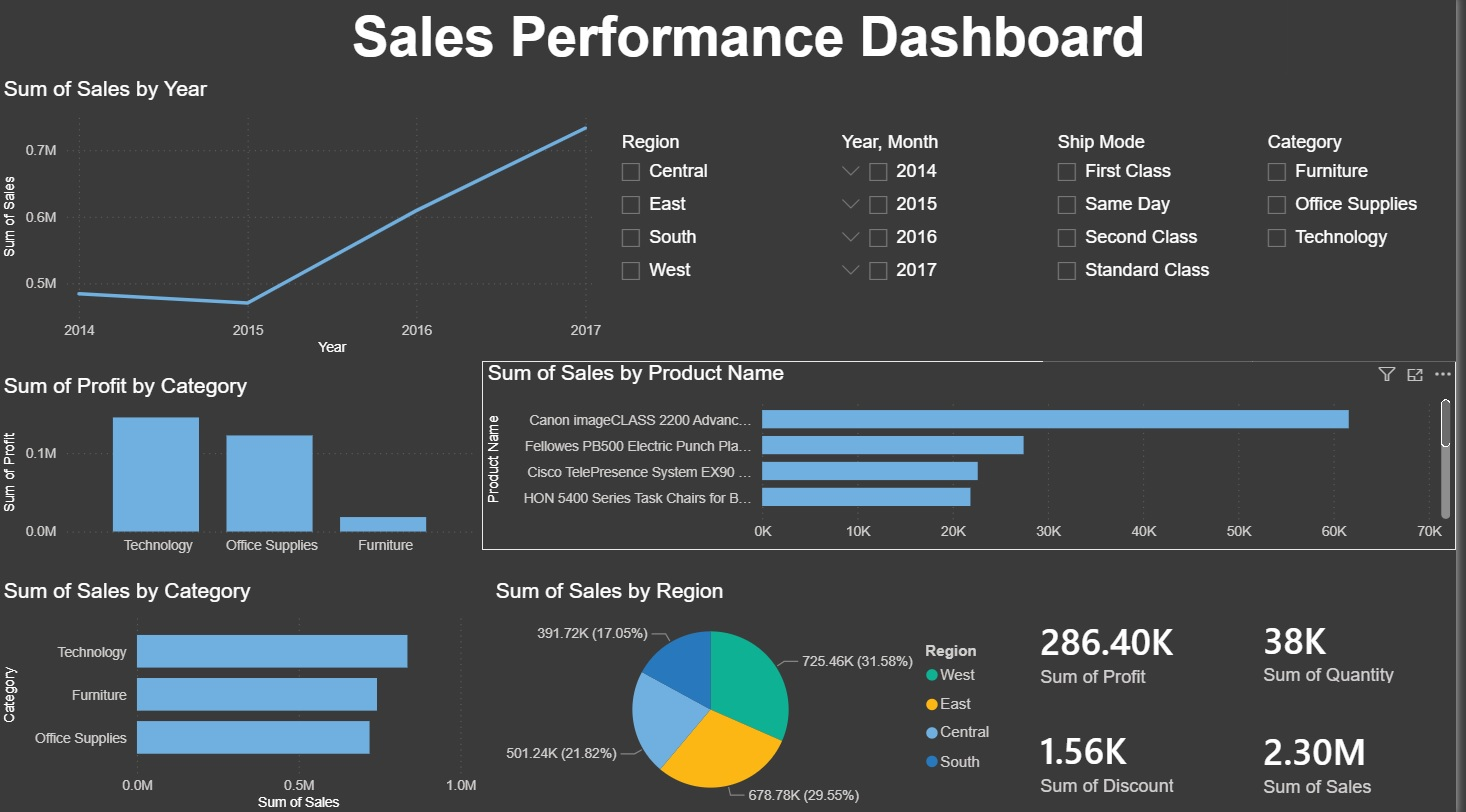

This screenshot's page, from the dashboard's own definition file:
{"tool":"powerbi","page":{"name":"Page 1","canvas":[1280,720],"ordinal":0},"visuals":[{"type":"cardVisual","fields":{"Data":["Sum(Sample - Superstore.Profit)"]},"box":[885.1,526.2,195.5,96.3],"z":0},{"type":"cardVisual","fields":{"Data":["Sum(Sample - Superstore.Quantity)"]},"box":[1080.6,523.3,199.4,98.2],"z":1000},{"type":"cardVisual","fields":{"Data":["Sum(Sample - Superstore.Sales)"]},"box":[1080.6,621.5,199.4,98.2],"z":2000},{"type":"cardVisual","fields":{"Data":["Sum(Sample - Superstore.Discount)"]},"box":[885.1,621.5,195.5,96.3],"z":3000},{"type":"clusteredBarChart","fields":{"Category":["Sample - Superstore.Category"],"Y":["Sum(Sample - Superstore.Sales)"]},"box":[0,511.6,425,208.1],"z":4000},{"type":"columnChart","fields":{"Category":["Sample - Superstore.Category"],"Y":["Sum(Sample - Superstore.Profit)"]},"box":[0,331.7,425,166.3],"z":4001},{"type":"lineChart","fields":{"Y":["Sum(Sample - Superstore.Sales)"],"Category":["Sample - Superstore.Order Date.Variation.Date Hierarchy.Year","Sample - Superstore.Order Date.Variation.Date Hierarchy.Quarter","Sample - Superstore.Order Date.Variation.Date Hierarchy.Month","Sample - Superstore.Order Date.Variation.Date Hierarchy.Day"]},"box":[0,71.1,534.8,249.4],"z":4002},{"type":"pieChart","fields":{"Category":["Sample - Superstore.Region"],"Y":["Sum(Sample - Superstore.Sales)"]},"box":[431.9,511.6,453.3,208.1],"z":4003},{"type":"barChart","fields":{"Category":["Sample - Superstore.Product Name"],"Y":["Sum(Sample - Superstore.Sales)"]},"box":[424.7,320.5,855.3,165.6],"z":4004},{"type":"slicer","fields":{"Values":["Sample - Superstore.Region"]},"box":[534.8,114,192.9,187],"z":4005},{"type":"slicer","fields":{"Values":["Sample - Superstore.Category"]},"box":[1101.7,114,178.3,206.5],"z":4006},{"type":"slicer","fields":{"Values":["Sample - Superstore.Ship Mode"]},"box":[917.6,114,184.1,206.5],"z":4007},{"type":"slicer","fields":{"Values":["Sample - Superstore.Order Date.Variation.Date Hierarchy.Year","Sample - Superstore.Order Date.Variation.Date Hierarchy.Month"]},"box":[727.7,114,183.1,194.8],"z":4008},{"type":"textbox","box":[292.2,3.9,838.7,67.2],"z":4009}]}

Visuals, with their boxes in screenshot pixels (x1, y1, x2, y2), scaled from the page's 1280x720 canvas onto the 1466x812 screenshot:
cardVisual - Sum(Sample - Superstore.Profit): <region>1014, 593, 1238, 702</region>
cardVisual - Sum(Sample - Superstore.Quantity): <region>1238, 590, 1465, 701</region>
cardVisual - Sum(Sample - Superstore.Sales): <region>1238, 701, 1465, 811</region>
cardVisual - Sum(Sample - Superstore.Discount): <region>1014, 701, 1238, 810</region>
clusteredBarChart - Sample - Superstore.Category x Sum(Sample - Superstore.Sales): <region>0, 577, 487, 811</region>
columnChart - Sample - Superstore.Category x Sum(Sample - Superstore.Profit): <region>0, 374, 487, 562</region>
lineChart - Sum(Sample - Superstore.Sales) x Sample - Superstore.Order Date.Variation.Date Hierarchy.Year: <region>0, 80, 613, 361</region>
pieChart - Sample - Superstore.Region x Sum(Sample - Superstore.Sales): <region>495, 577, 1014, 811</region>
barChart - Sample - Superstore.Product Name x Sum(Sample - Superstore.Sales): <region>486, 361, 1465, 548</region>
slicer - Sample - Superstore.Region: <region>613, 129, 833, 339</region>
slicer - Sample - Superstore.Category: <region>1262, 129, 1465, 361</region>
slicer - Sample - Superstore.Ship Mode: <region>1051, 129, 1262, 361</region>
slicer - Sample - Superstore.Order Date.Variation.Date Hierarchy.Year x Sample - Superstore.Order Date.Variation.Date Hierarchy.Month: <region>833, 129, 1043, 348</region>
textbox: <region>335, 4, 1295, 80</region>
